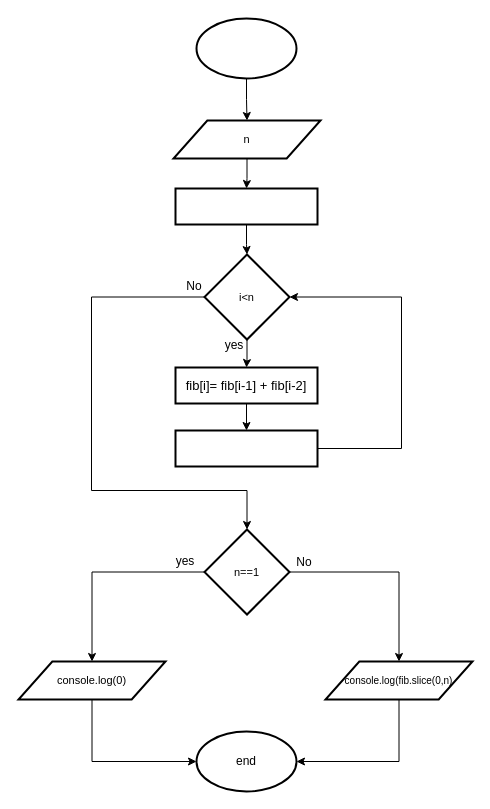
The diagram is 490 pixels wide and 809 high, and some of its shapes have lost their labels. Here are the shapes that lost their labels. From the top down, the centre of each, then its label:
[246,48]: start
[246,206]: fib=[0,1], i=2
[246,448]: i++
